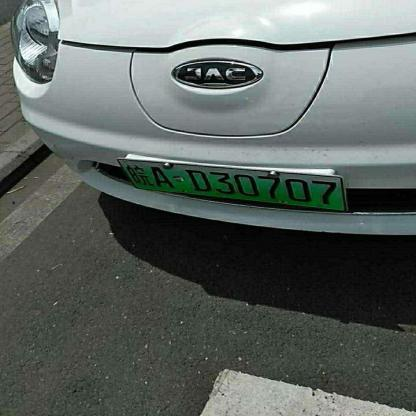lp: (116, 158, 348, 211)
